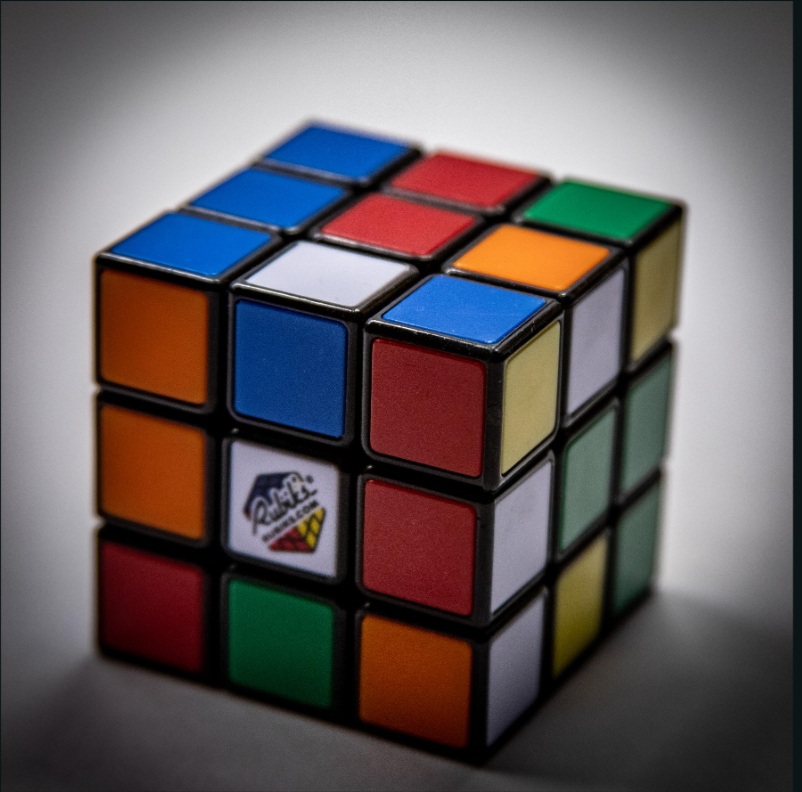cube: (91, 127, 690, 762)
